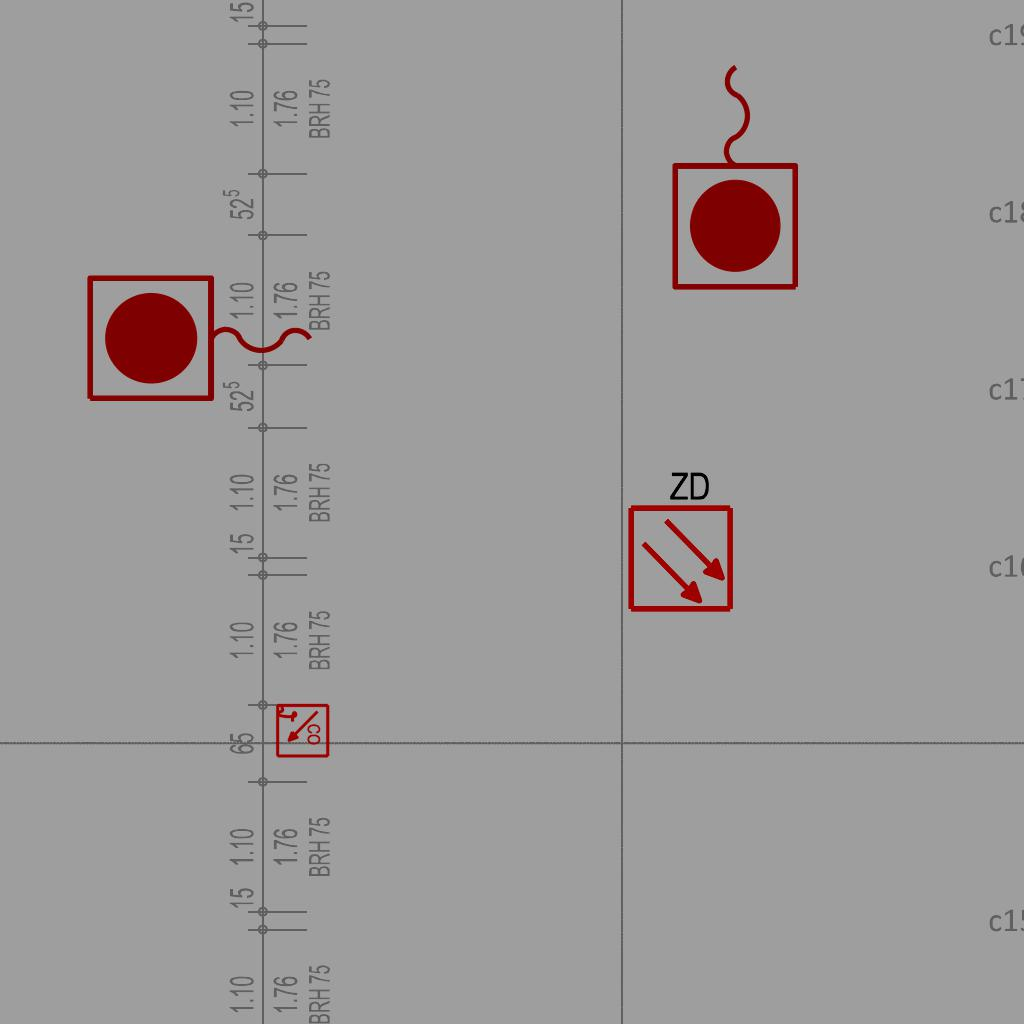ROA_Rauchmelder_optisch_mit_Signalgeber_(Sockelsirene): (274, 703, 330, 759)
ZD_Melder_in_Zwischendecke_mit_Revisionsoeffnung_mind_40_x_40_cm: (622, 465, 736, 614)
Zugtaster: (665, 54, 809, 298), (79, 268, 323, 412)
